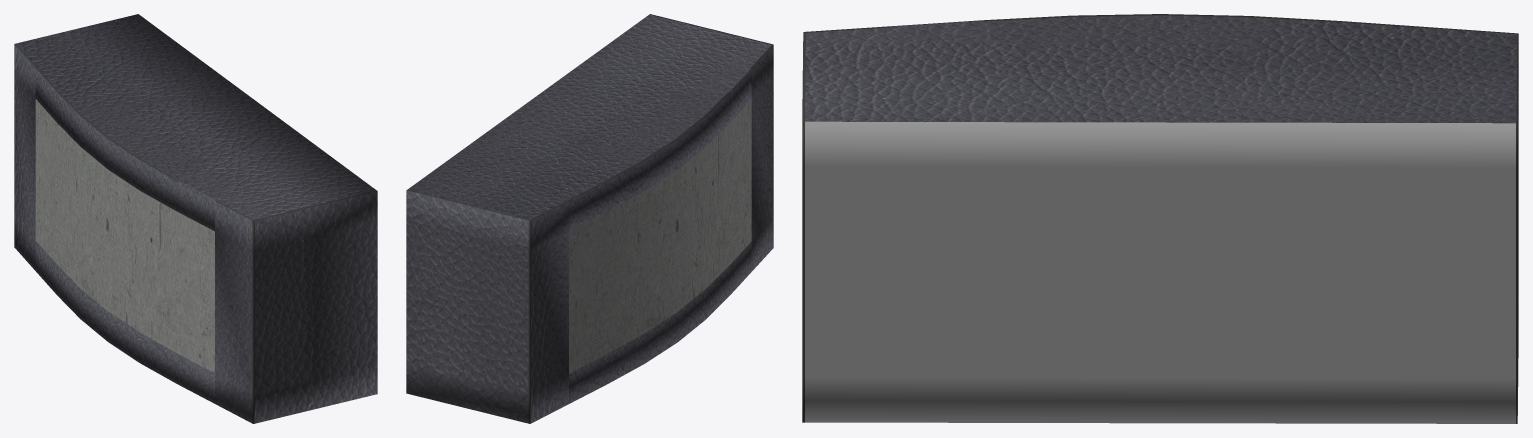
The model's file is Lampara3.obj.
The picture shows the model from 3 angles, left to right: view 1: azimuth 30°, elevation 25°; view 2: azimuth 150°, elevation 25°; view 3: azimuth 270°, elevation 25°; orthographic projection. The views are drawn at different scales.
Visible parts, largest first — view 1: sconce_03; view 2: sconce_03; view 3: sconce_03.
Part boxes in pixels (<box>): sconce_03: <box>14,14,377,423</box>; sconce_03: <box>406,14,773,423</box>; sconce_03: <box>802,14,1518,423</box>.
Size of the model in its own units: 1.18 by 1.52 by 3.28.
Materials: 4 (2 with a texture image).
